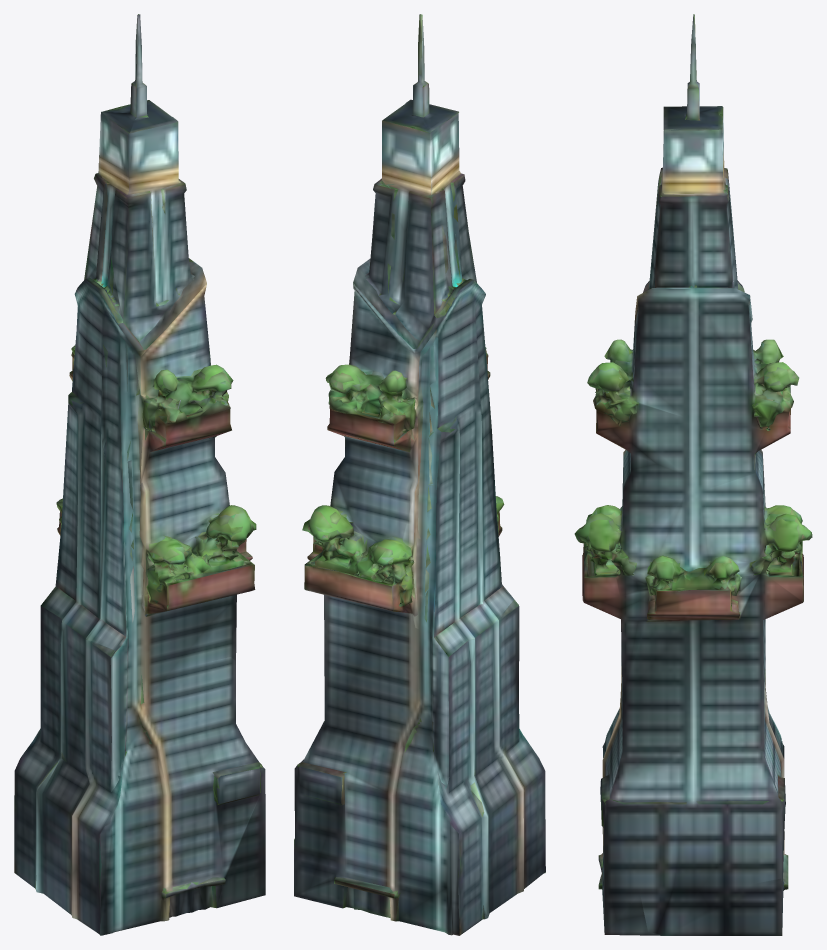
Rendered from skyscraper.glb.
The picture shows the model from 3 angles, left to right: view 1: azimuth 30°, elevation 25°; view 2: azimuth 150°, elevation 25°; view 3: azimuth 270°, elevation 25°; orthographic projection.
Parts seen in each view (by area): view 1: Mesh_0; view 2: Mesh_0; view 3: Mesh_0.
Part boxes in pixels (x1,y1,x2,y2): Mesh_0: (14, 14, 265, 935); Mesh_0: (294, 14, 545, 935); Mesh_0: (574, 14, 812, 935).
Size of the model in its own units: 0.4048 by 1.91 by 0.4679.
Materials: 1 (1 with a texture image).
